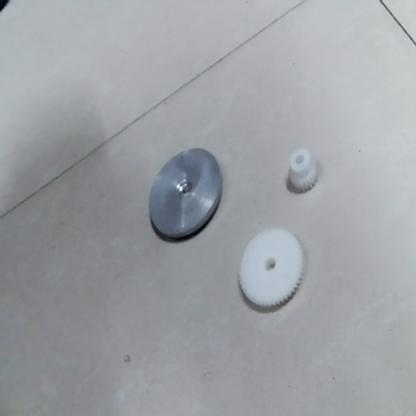FOD: (148, 139, 224, 243), (235, 224, 309, 308), (286, 142, 322, 197)
